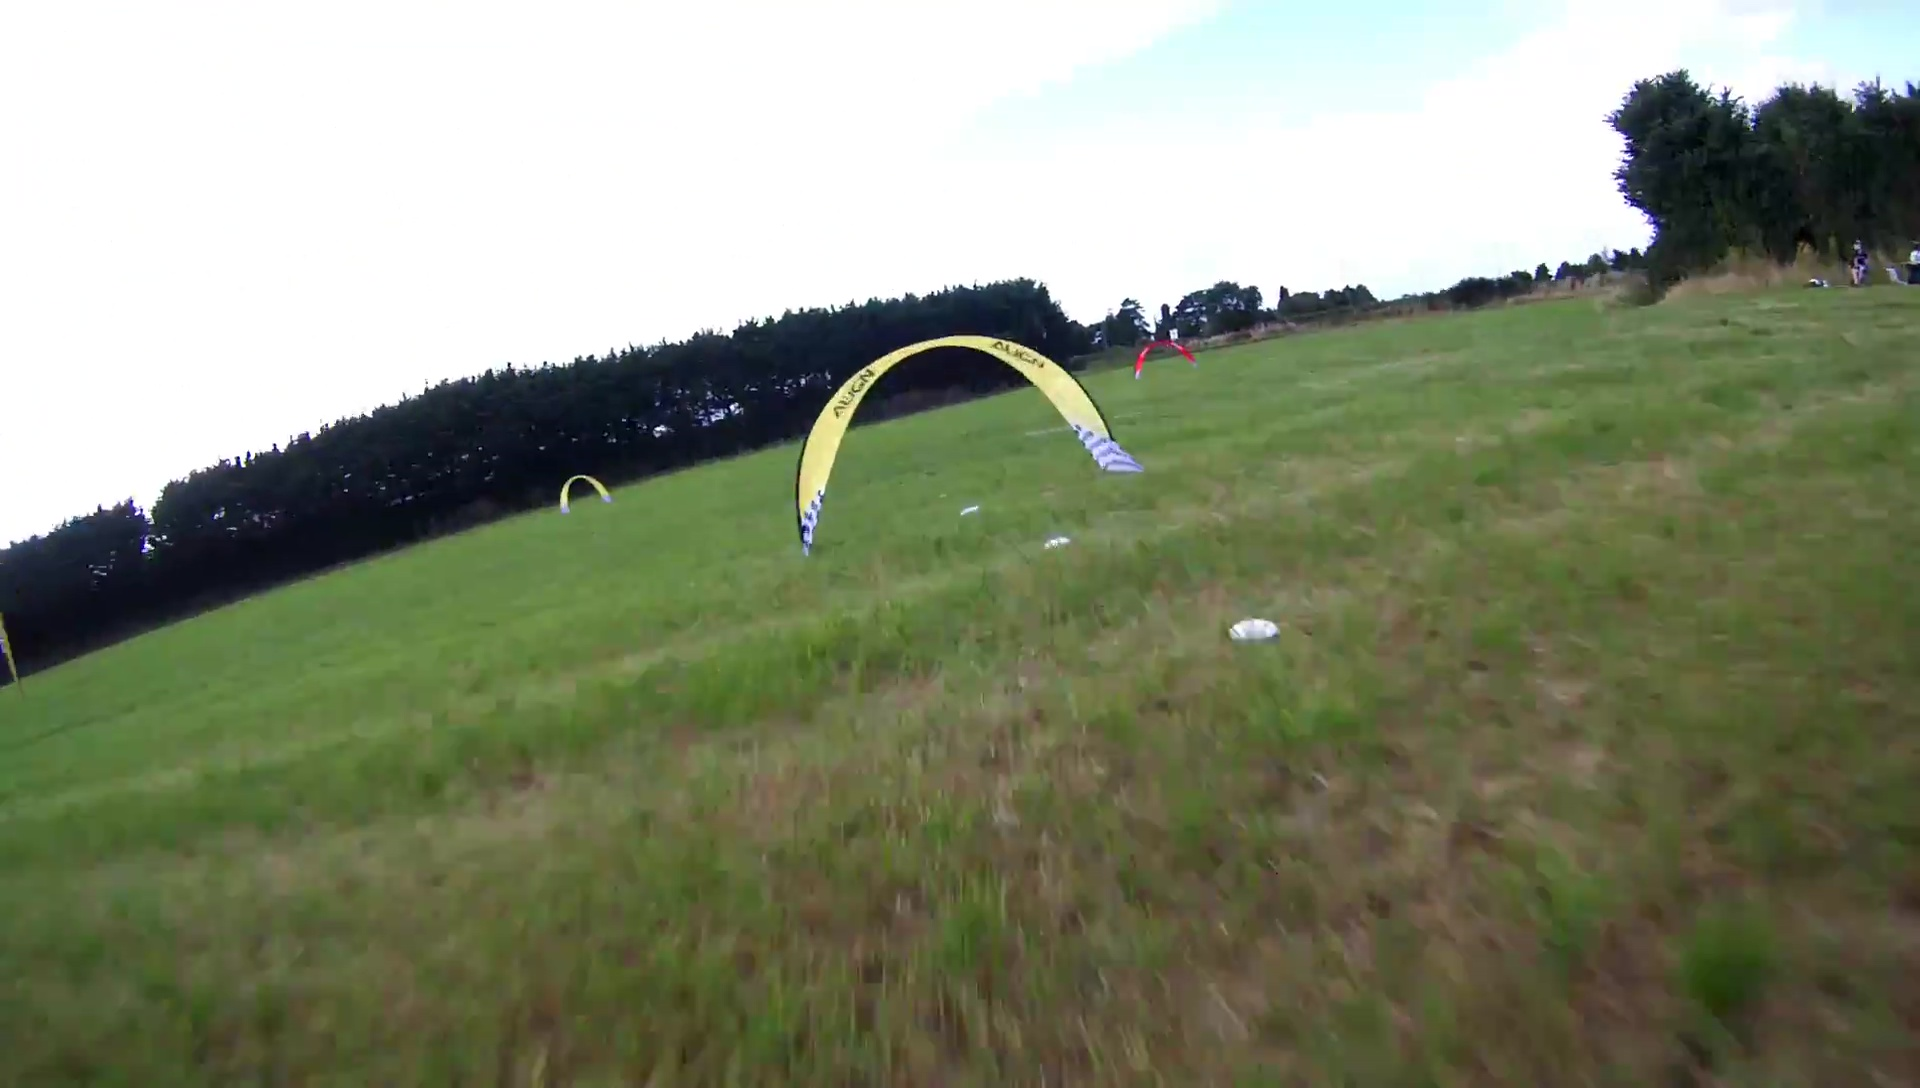gate: (793, 334, 1142, 559), (1133, 339, 1196, 382), (556, 473, 613, 516)
